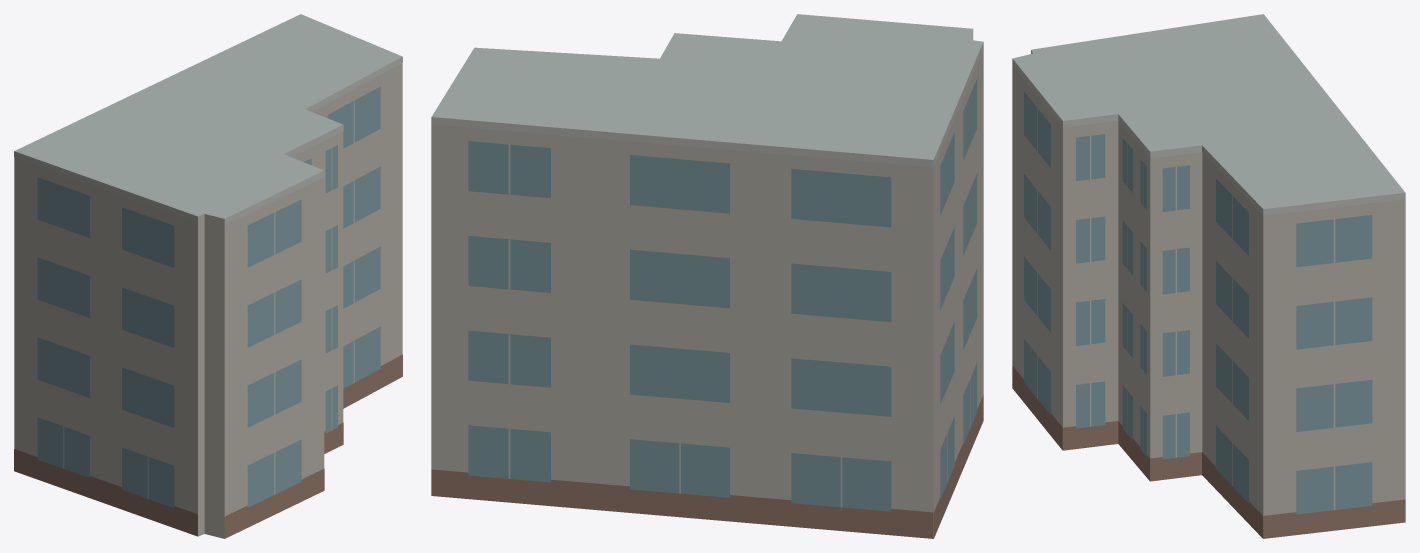
The model's file is survey-upis-32852375.glb.
3 renders of one model, left to right at view 1: azimuth 30°, elevation 25°; view 2: azimuth 150°, elevation 25°; view 3: azimuth 270°, elevation 25°, orthographic. The views are drawn at different scales.
Visible parts, largest first — view 1: survey-upis-32852375.tmp; view 2: survey-upis-32852375.tmp; view 3: survey-upis-32852375.tmp.
Part boxes in pixels (left/top/right/bottom): survey-upis-32852375.tmp: left=14, top=14, right=402, bottom=538; survey-upis-32852375.tmp: left=431, top=14, right=983, bottom=538; survey-upis-32852375.tmp: left=1012, top=14, right=1405, bottom=538.
Size of the model in its own units: 15.7 by 12.36 by 13.37.
